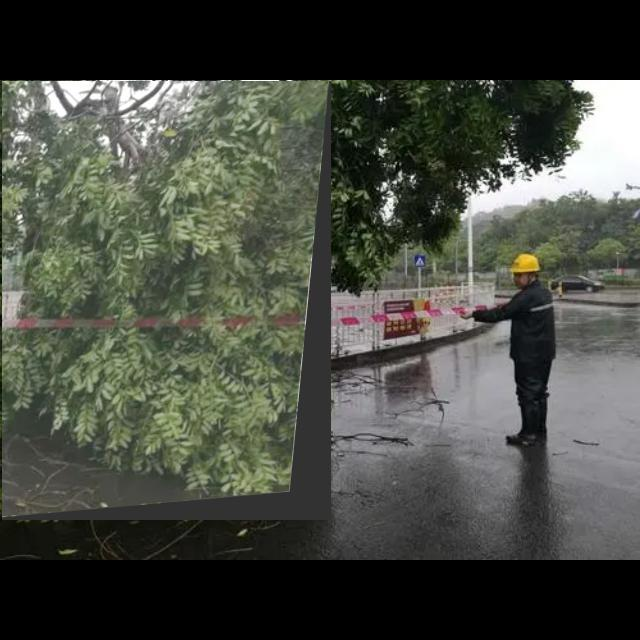fallen_tree: (2, 81, 332, 521)
